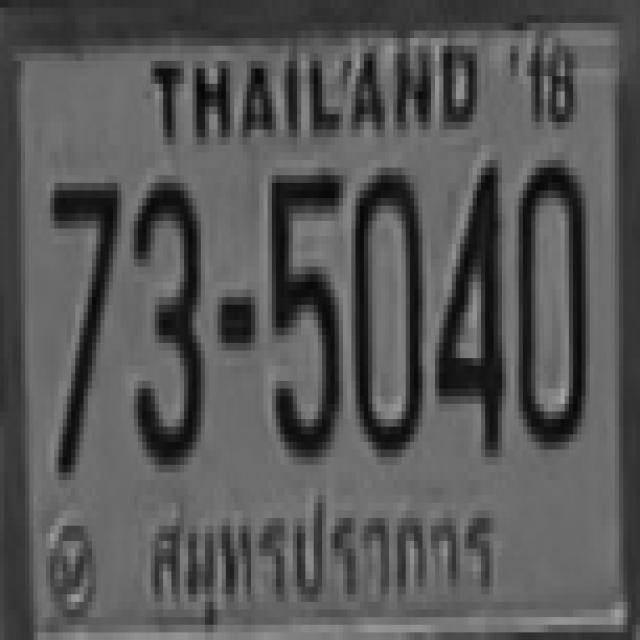0: (514, 152, 586, 442), (352, 160, 418, 450)
3: (130, 175, 200, 457)
4: (435, 156, 502, 446)
5: (268, 168, 339, 450)
7: (46, 175, 117, 472)
SamutPrakan: (138, 488, 502, 633)
